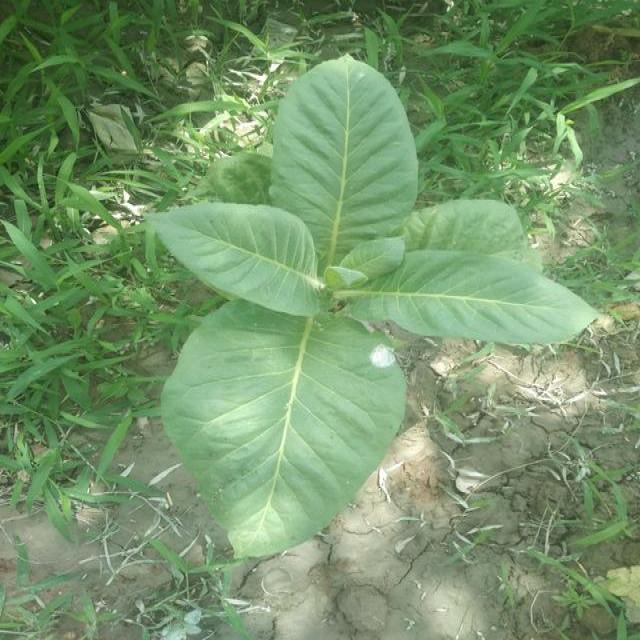crop: (154, 56, 582, 547)
